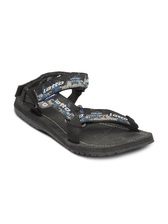shoes: (10, 65, 158, 159)
